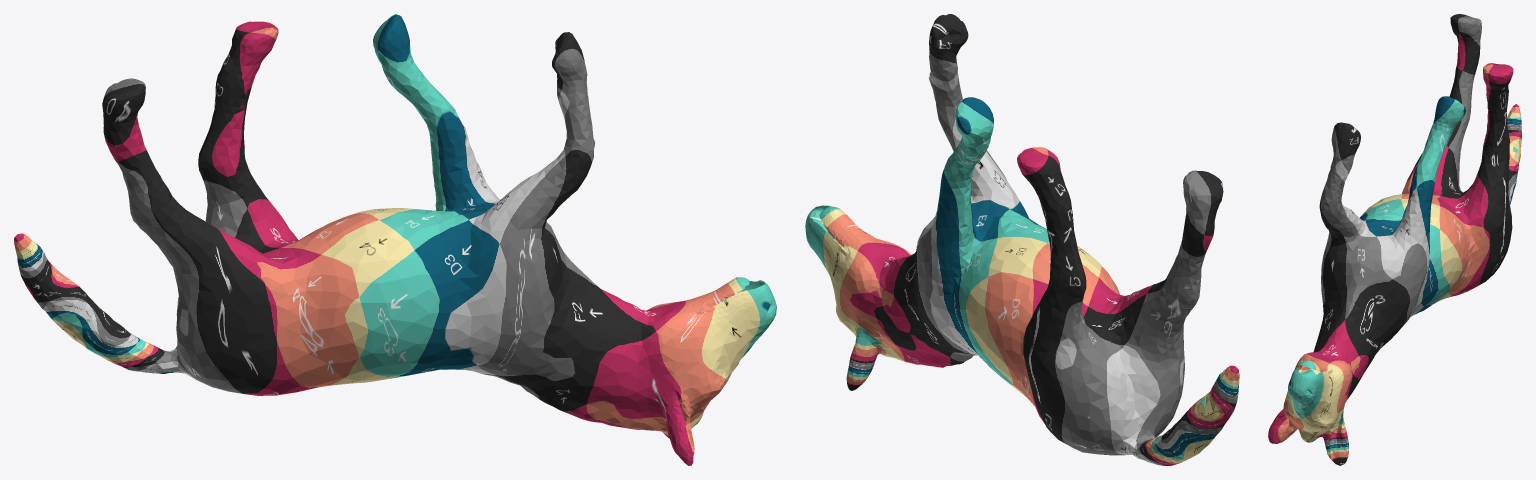
The model's file is hippo_03-horse_01.obj.
The picture shows the model from 3 angles, left to right: view 1: azimuth 30°, elevation 25°; view 2: azimuth 150°, elevation 25°; view 3: azimuth 270°, elevation 25°; orthographic projection. The views are drawn at different scales.
Visible parts, largest first — view 1: hippo_03-horse_01_export; view 2: hippo_03-horse_01_export; view 3: hippo_03-horse_01_export.
Part boxes in pixels (x1,y1,x2,y2): hippo_03-horse_01_export: (14,14,776,465); hippo_03-horse_01_export: (805,14,1239,465); hippo_03-horse_01_export: (1268,14,1521,465).
Size of the model in its own units: 1.09 by 0.7289 by 0.5466.
